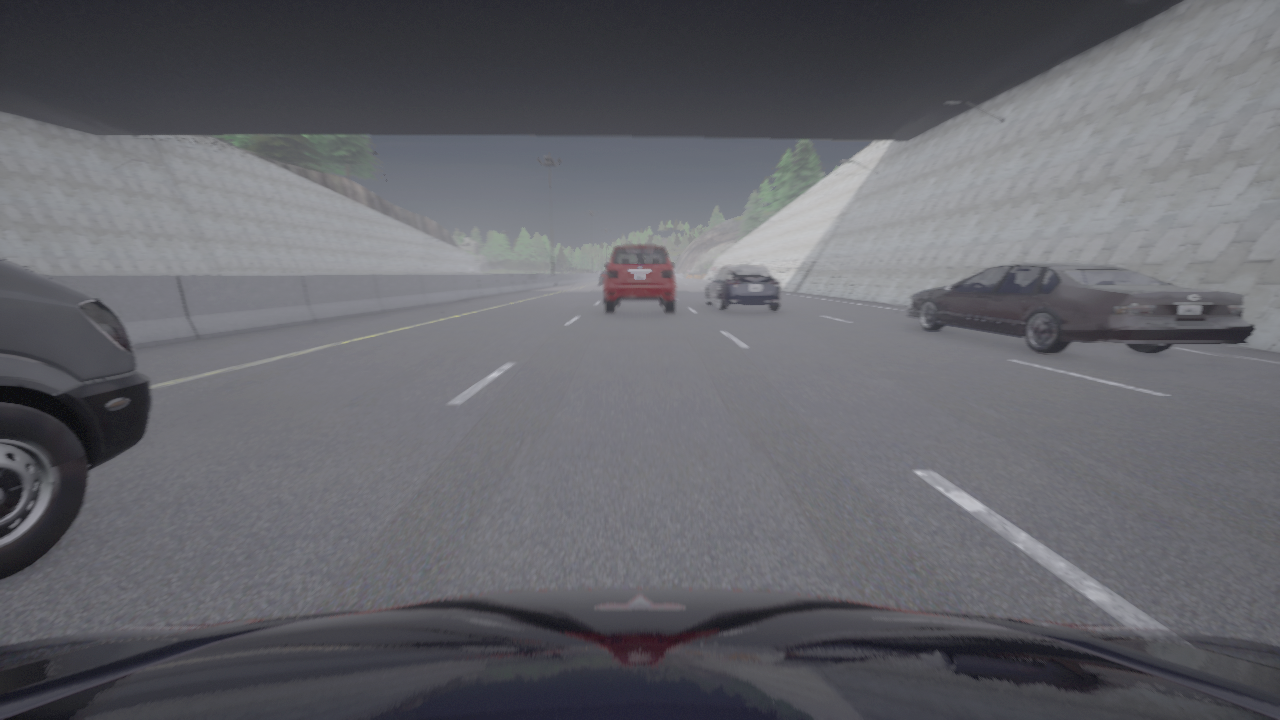cyclist: (0, 588, 1279, 719), (906, 262, 1256, 352), (604, 245, 675, 312), (705, 265, 780, 310), (598, 270, 605, 284)
